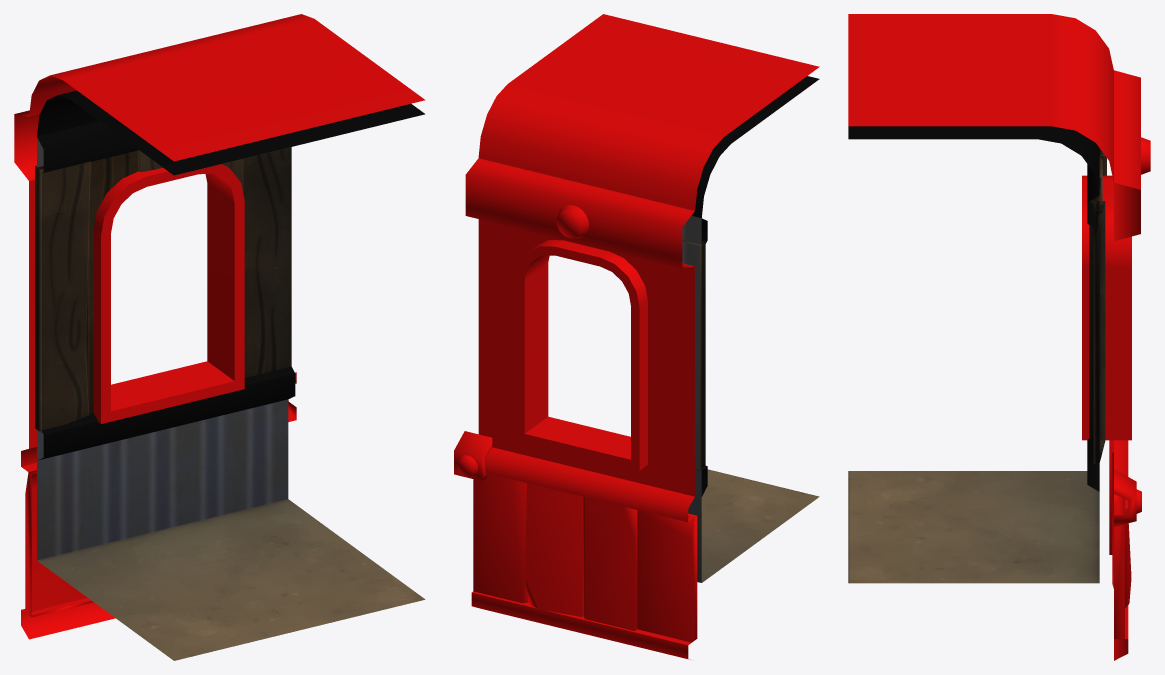
The model's file is SM_FENETRE_Train_FINAL.fbx.
The picture shows the model from 3 angles, left to right: view 1: azimuth 30°, elevation 25°; view 2: azimuth 150°, elevation 25°; view 3: azimuth 270°, elevation 25°; orthographic projection. The views are drawn at different scales.
Parts seen in each view (by area): view 1: Milieu_Fenetre_Train_Low_FINALE; view 2: Milieu_Fenetre_Train_Low_FINALE; view 3: Milieu_Fenetre_Train_Low_FINALE.
Boxes of the visible parts, x1,y1,x2,y2 form: Milieu_Fenetre_Train_Low_FINALE: [14, 14, 425, 660]; Milieu_Fenetre_Train_Low_FINALE: [454, 14, 819, 659]; Milieu_Fenetre_Train_Low_FINALE: [848, 14, 1150, 660].
Size of the model in its own units: 2.13 by 4.44 by 2.28.
